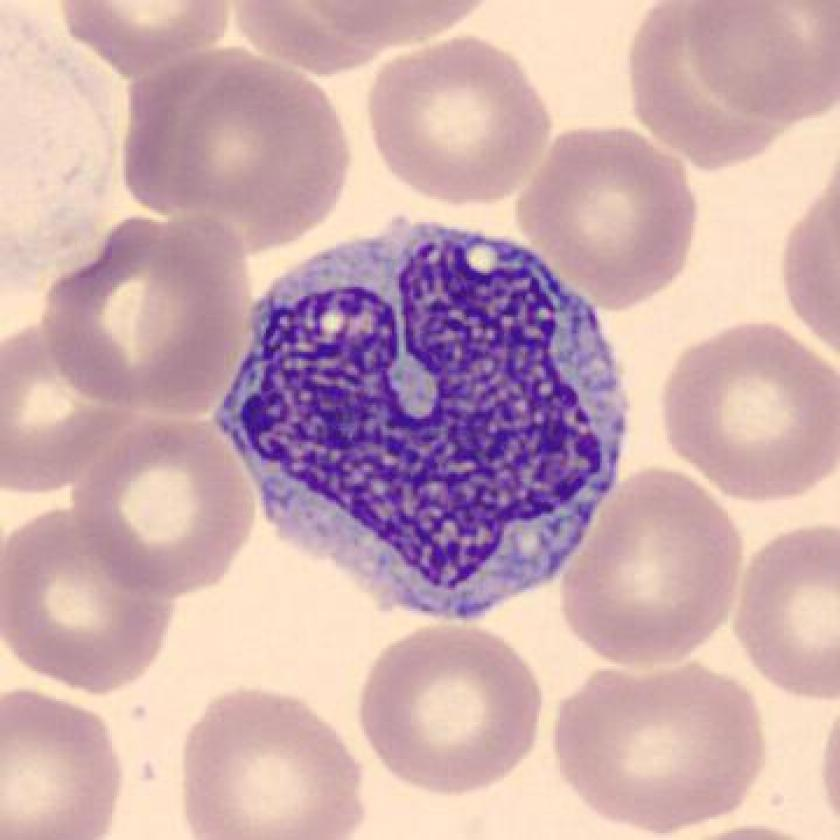monocyte: (197, 198, 657, 644)
